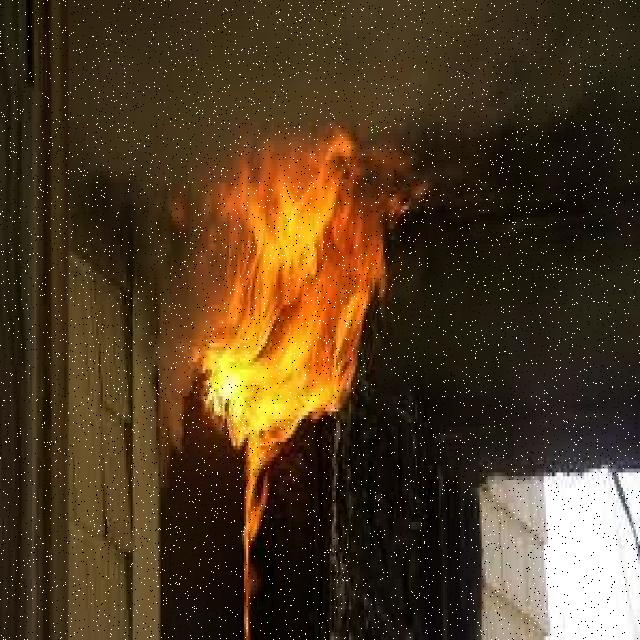fire: (188, 140, 394, 640)
